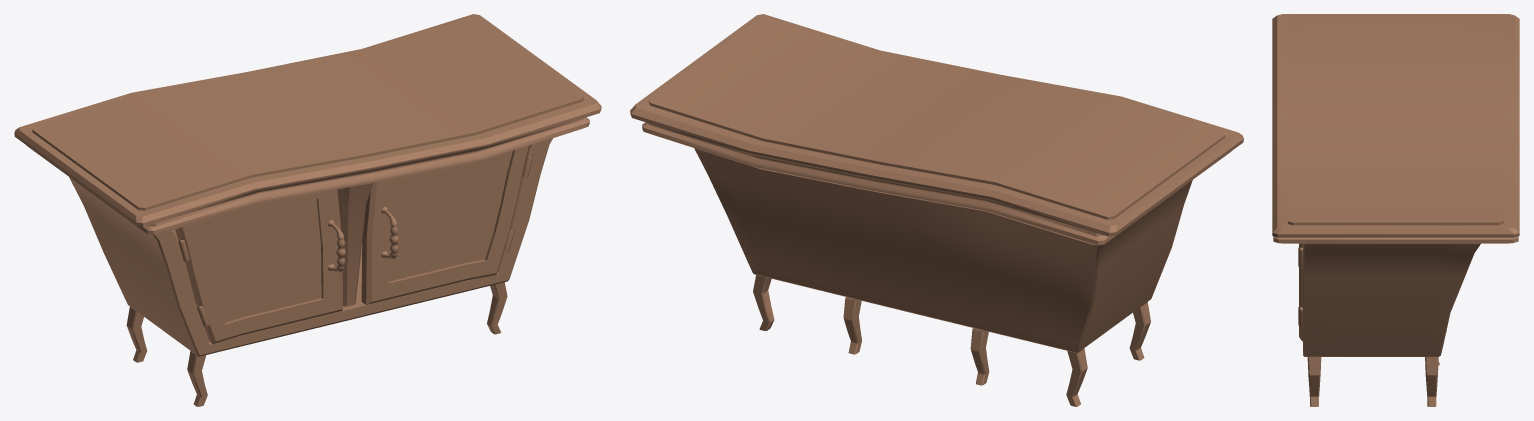
File: SM_Commode_01_Final_UV_Clean_Trou.fbx
3 renders of one model, left to right at view 1: azimuth 30°, elevation 25°; view 2: azimuth 150°, elevation 25°; view 3: azimuth 270°, elevation 25°, orthographic. The views are drawn at different scales.
Visible parts, largest first — view 1: SM_Commode_01_Final_UV, SM_PorteG_Commode_01_Final, SM_PorteD_Commode_01_Final; view 2: SM_Commode_01_Final_UV; view 3: SM_Commode_01_Final_UV, SM_PorteD_Commode_01_Final.
Boxes of the visible parts, left/top/right/bottom form: SM_Commode_01_Final_UV: left=14, top=14, right=601, bottom=406; SM_PorteG_Commode_01_Final: left=175, top=189, right=345, bottom=344; SM_PorteD_Commode_01_Final: left=361, top=145, right=529, bottom=304; SM_Commode_01_Final_UV: left=630, top=14, right=1243, bottom=406; SM_Commode_01_Final_UV: left=1272, top=14, right=1519, bottom=406; SM_PorteD_Commode_01_Final: left=1299, top=243, right=1302, bottom=341.
Bounding box in the file's own units: 2.36 × 1.11 × 1.12.
